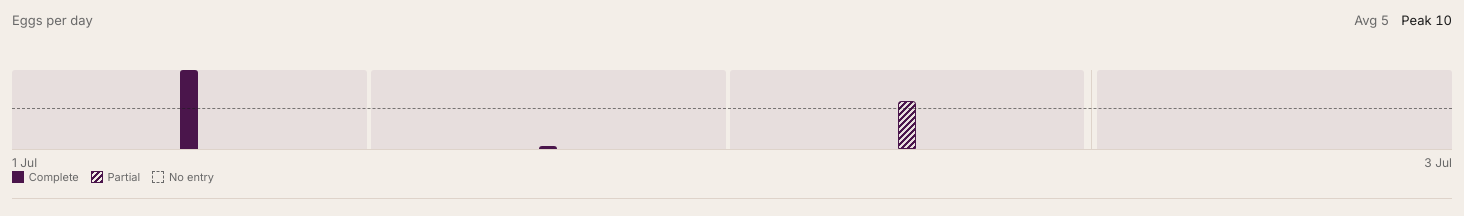
Test case: DayStrip (#654, #777, #780) › shows that day's readout on hover and marks the slot it describes
Hover over the 4th button with class "day": (1275, 109) [1097,70,1452,149]
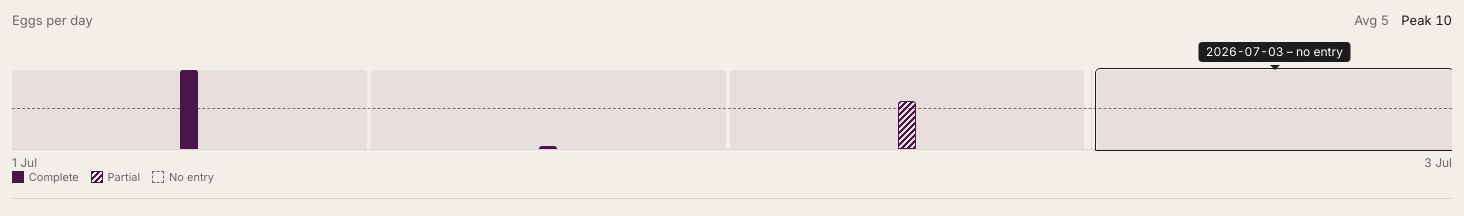
expect the text with class "tip" reads "2026-07-03 – no entry": met, box [1206,44,1343,59]
Hover over the 1st button with class "day": (189, 109) [12,70,367,149]
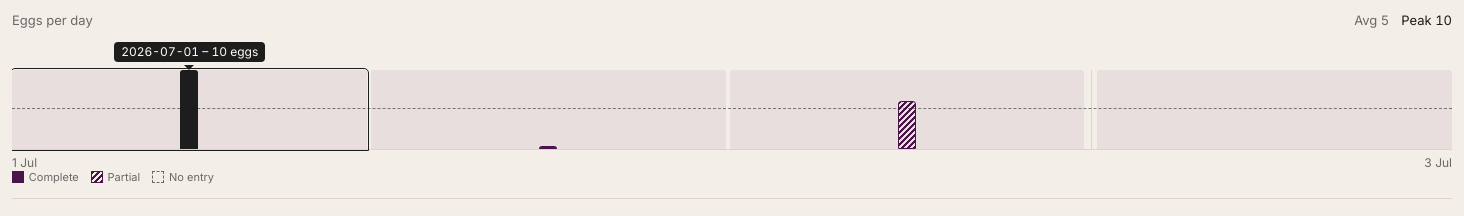
expect the text with class "tip" reads "2026-07-01 – 10 eggs": met, box [121,44,258,59]
